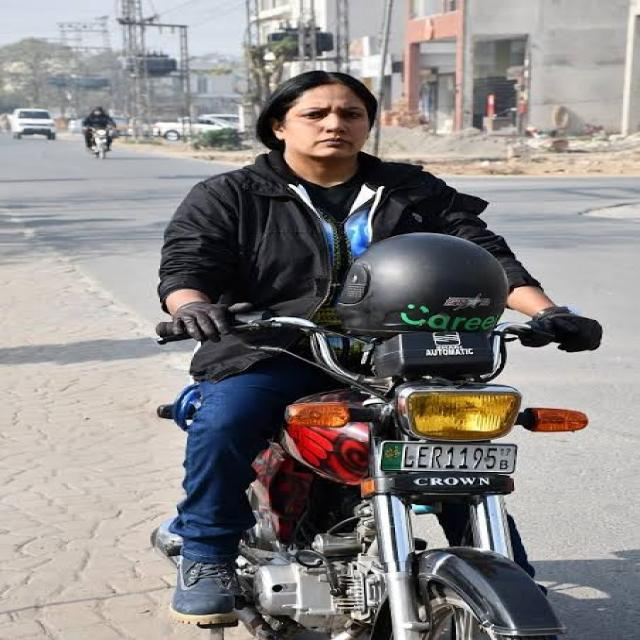Nonhelmet: (243, 61, 381, 180)
